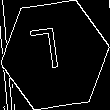L_S: (37, 28, 73, 82)
